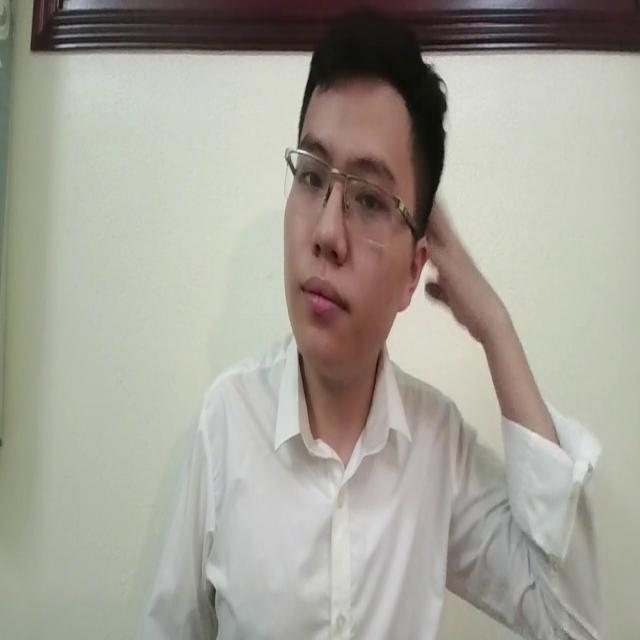student: (146, 0, 605, 640)
